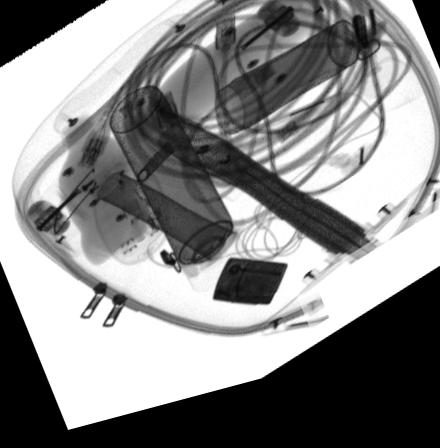Lighter: (213, 269, 287, 318)
Sprayer: (108, 93, 249, 302)
